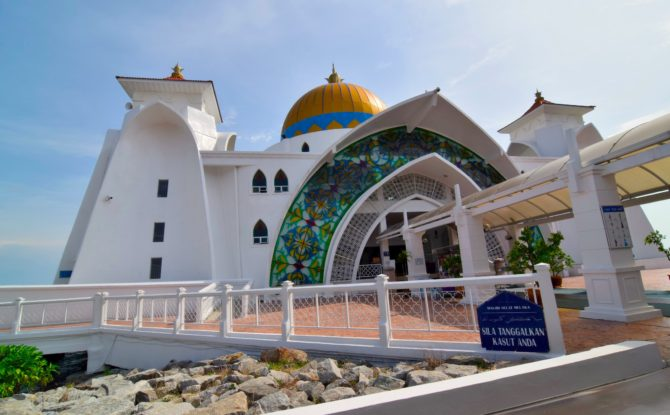Mosque: (71, 59, 648, 325)
